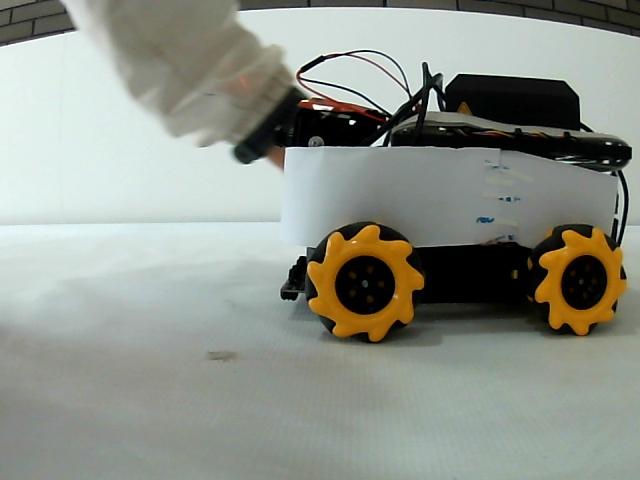car: (291, 64, 631, 343)
paper: (293, 147, 616, 227)
